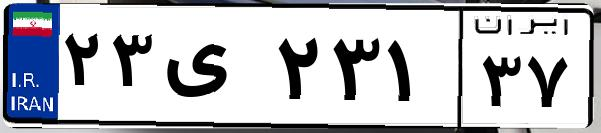1: (385, 28, 445, 110)
2: (270, 28, 330, 110), (57, 26, 110, 100)
3: (330, 28, 385, 110), (475, 38, 525, 113), (110, 28, 158, 98)
7: (525, 38, 570, 115)
ی: (158, 20, 270, 120)
